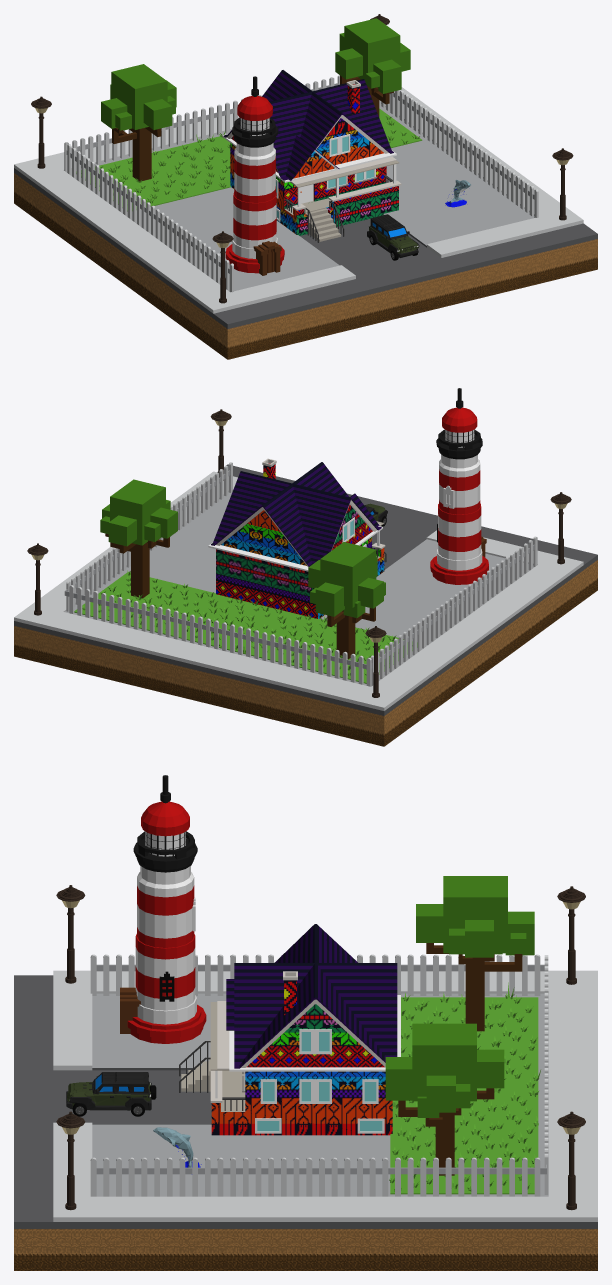
The picture shows the model from 3 angles, top to bottom: view 1: azimuth 30°, elevation 25°; view 2: azimuth 150°, elevation 25°; view 3: azimuth 270°, elevation 25°; orthographic projection. The views are drawn at different scales.
Visible parts, largest first — view 1: Cube.004, Cube.966, OBJRANDOM_LIGHTHOUSE, VEHICLES_JEEP; view 2: Cube.004, Cube.966, OBJRANDOM_LIGHTHOUSE; view 3: Cube.004, Cube.966, OBJRANDOM_LIGHTHOUSE, VEHICLES_JEEP, ANIMAL_DELFIN.
Part boxes in pixels (bbox=[...]): Cube.004: bbox=[14, 14, 597, 359]; Cube.966: bbox=[222, 70, 401, 242]; OBJRANDOM_LIGHTHOUSE: bbox=[225, 76, 284, 275]; VEHICLES_JEEP: bbox=[367, 214, 419, 260]; Cube.004: bbox=[14, 409, 597, 746]; Cube.966: bbox=[208, 458, 386, 618]; OBJRANDOM_LIGHTHOUSE: bbox=[430, 388, 488, 584]; Cube.004: bbox=[14, 876, 597, 1270]; Cube.966: bbox=[179, 924, 400, 1135]; OBJRANDOM_LIGHTHOUSE: bbox=[120, 775, 206, 1043]; VEHICLES_JEEP: bbox=[66, 1072, 156, 1116]; ANIMAL_DELFIN: bbox=[153, 1127, 201, 1167].
Size of the model in its own units: 4000 by 2347 by 4000.
Materials: 43 (7 with a texture image).
